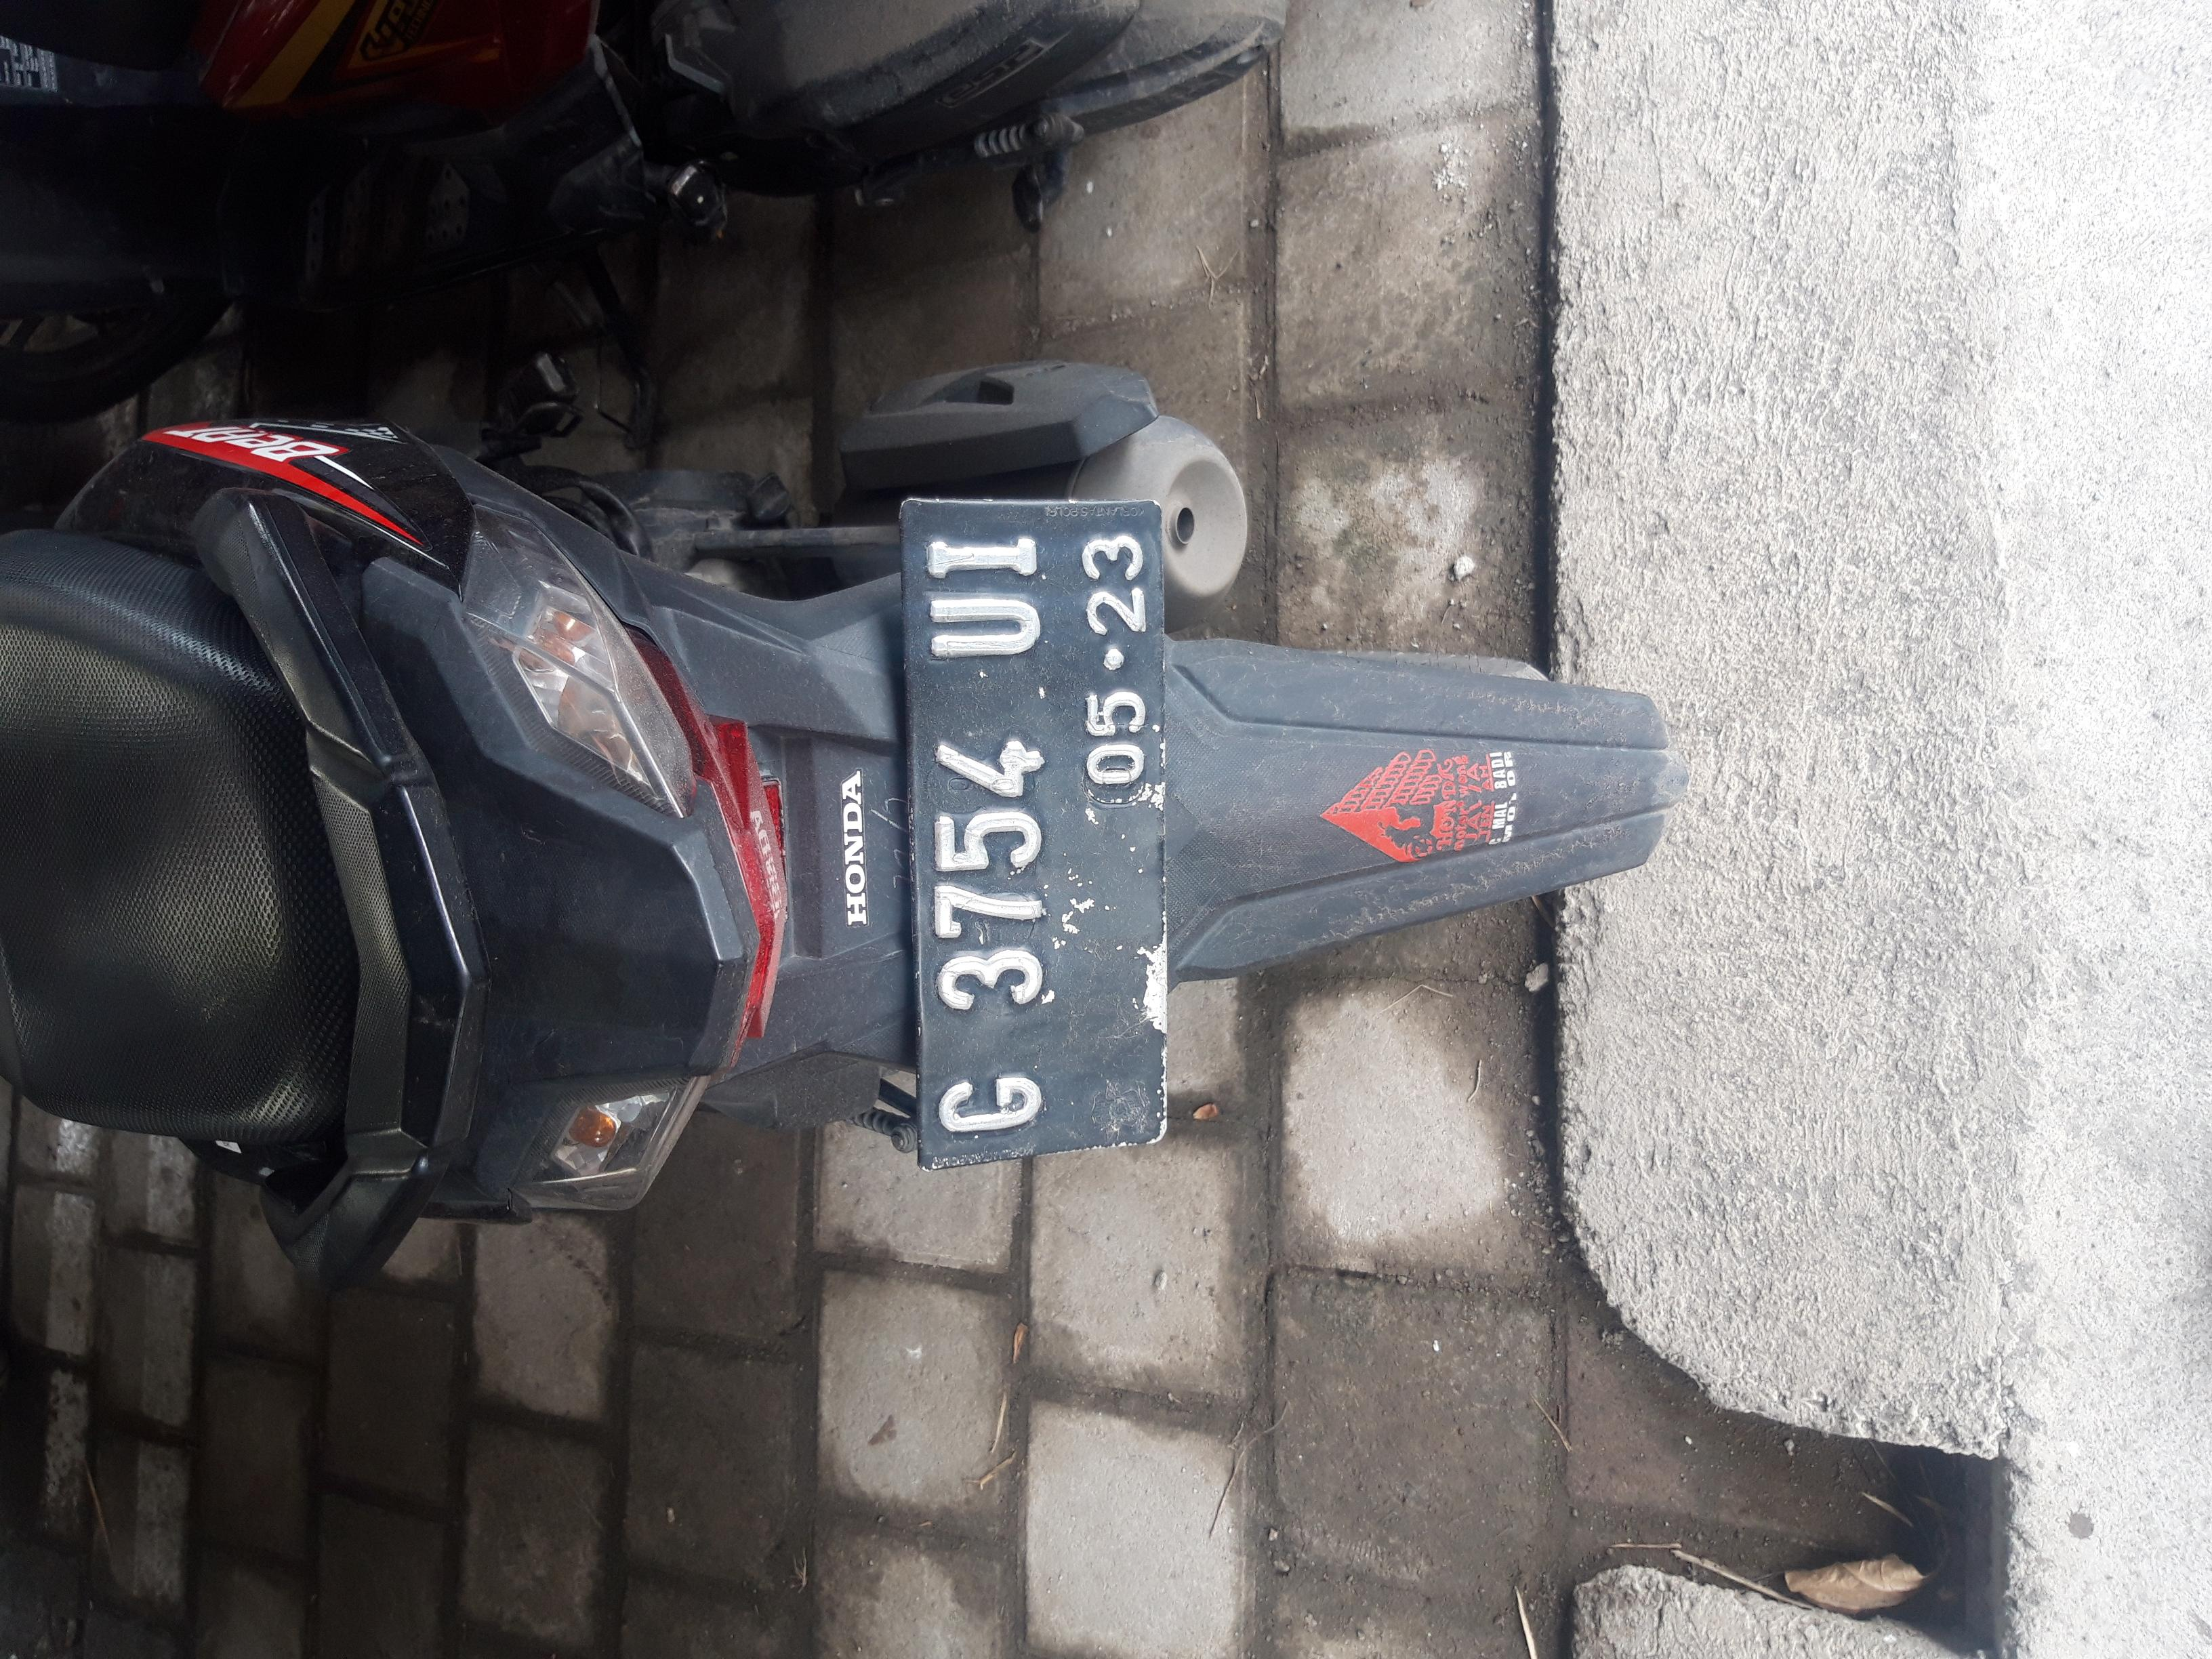plat: (651, 674, 1549, 878)
